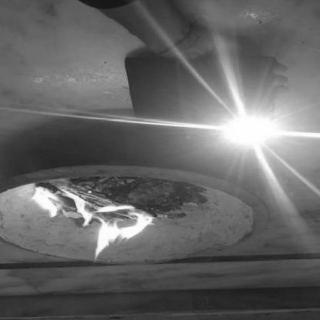other: (198, 105, 306, 163)
